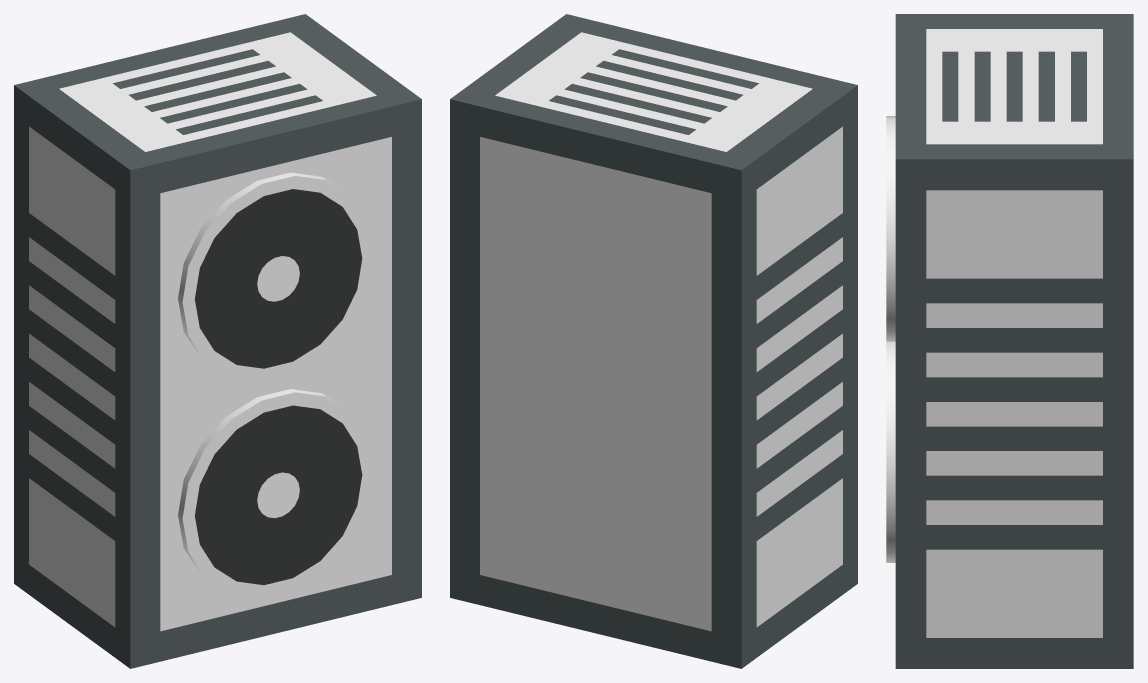
3 views of the same model, side by side, from view 1: azimuth 30°, elevation 25°; view 2: azimuth 150°, elevation 25°; view 3: azimuth 270°, elevation 25° (orthographic). The views are drawn at different scales.
Parts seen in each view (by area): view 1: ac4; view 2: ac4; view 3: ac4.
Part boxes in pixels (x1,y1,x2,y2): ac4: (14, 14, 421, 668); ac4: (450, 14, 857, 668); ac4: (886, 14, 1133, 668).
Size of the model in its own units: 2 by 3.27 by 1.44.
